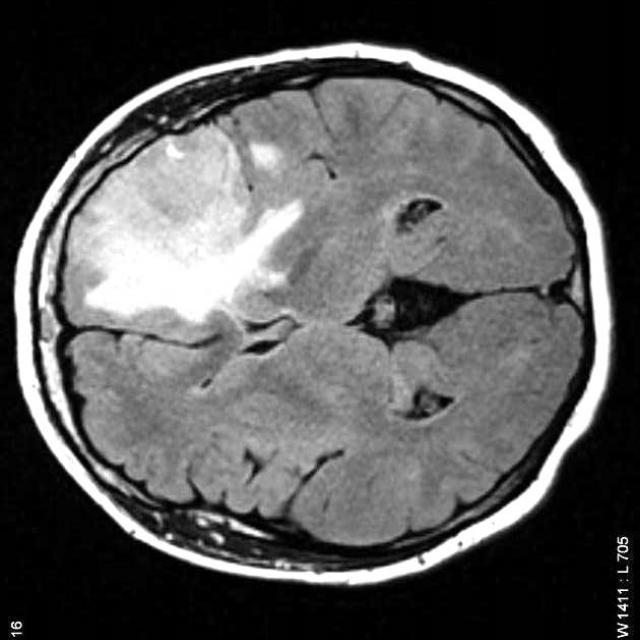tumor: (74, 124, 304, 319)
